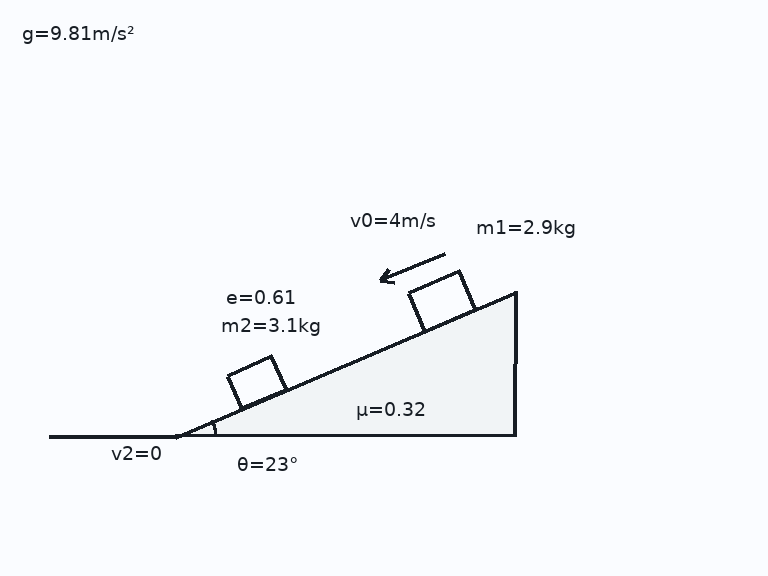block: (406, 269, 477, 332), (225, 354, 288, 410)
ramp: (173, 289, 518, 438)
